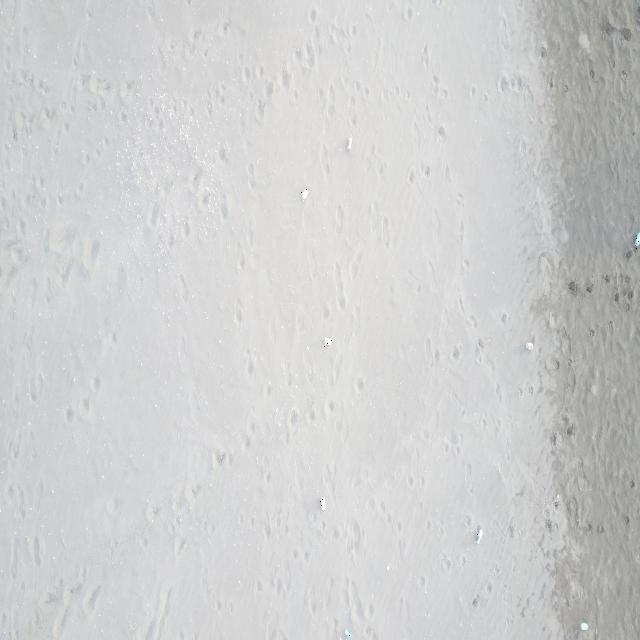tin-and-aluminum-cans: (346, 135, 354, 154), (300, 188, 310, 202), (322, 334, 333, 346), (476, 526, 483, 544), (634, 231, 640, 250), (579, 621, 589, 632), (320, 496, 327, 511), (344, 628, 352, 640), (524, 342, 534, 351)
